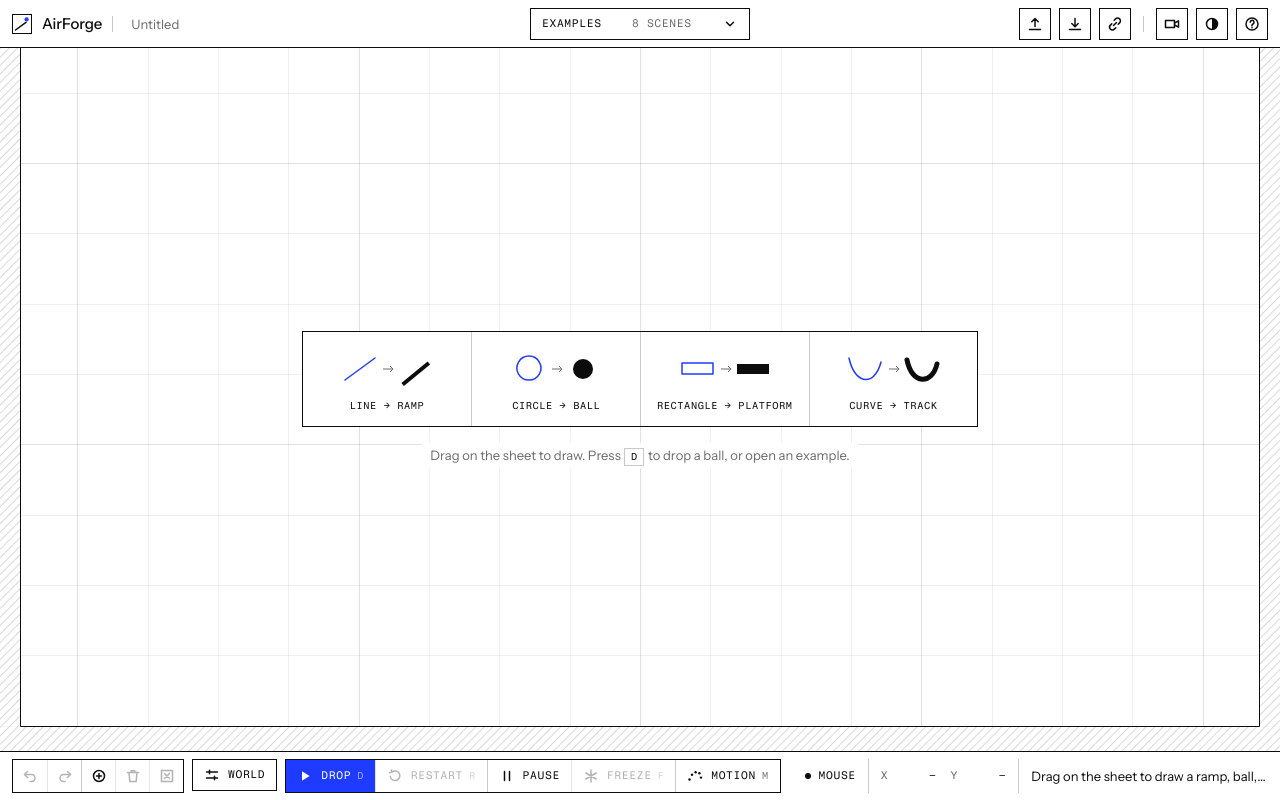
restores focus to the Help button when Help closes with {Escape}
This screenshot has width=1280, height=800.
Click the button named "Help": (1252, 24) [1236,8,1268,40]
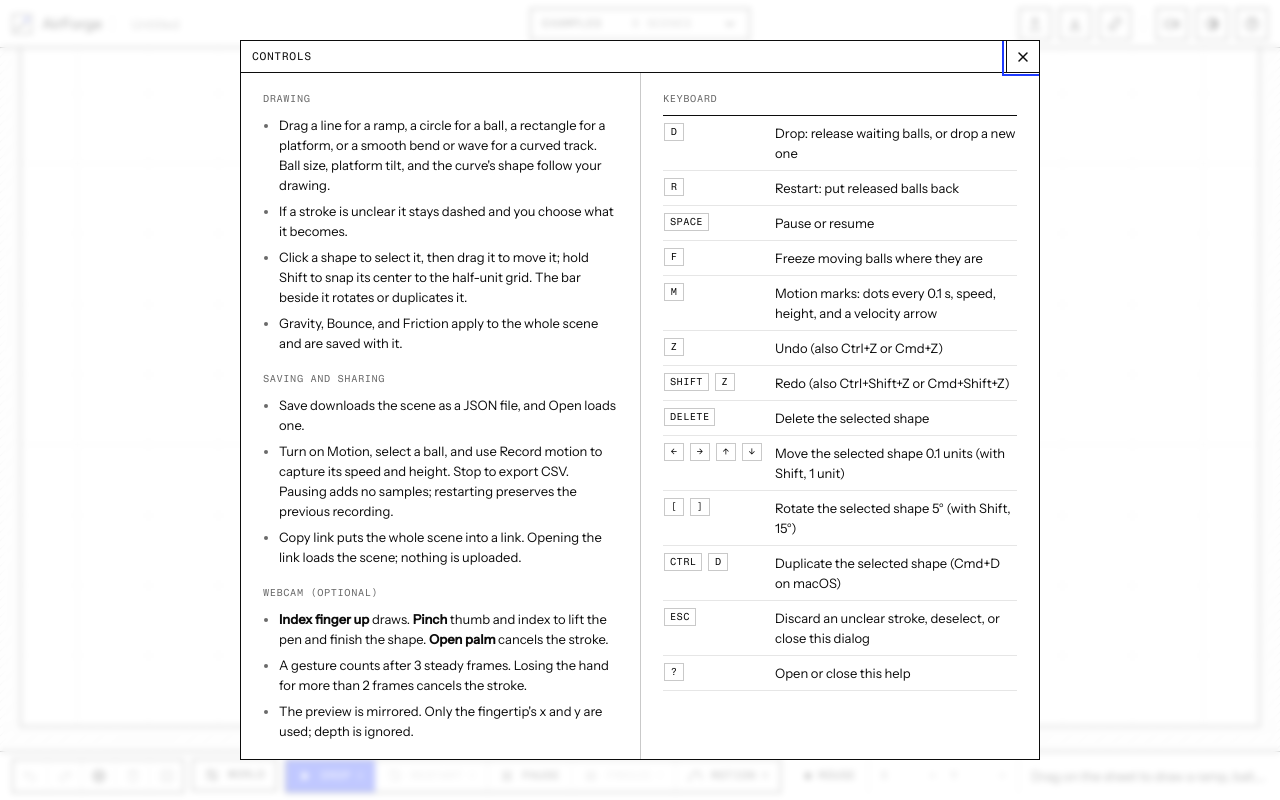
expect the element that starts with "AirForge" has attribute inert: met
Press Tab
Type keys "drz"
Press Escape
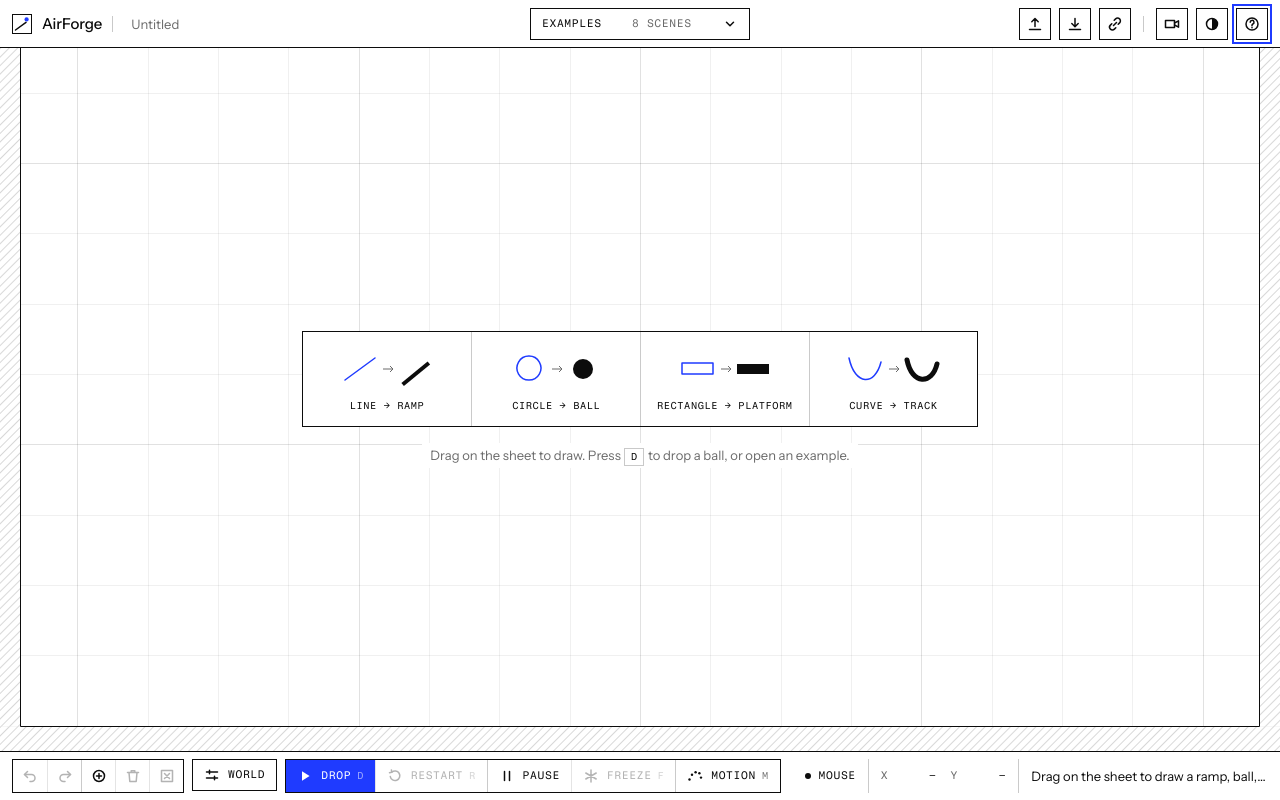
expect the dialog is gone: met
